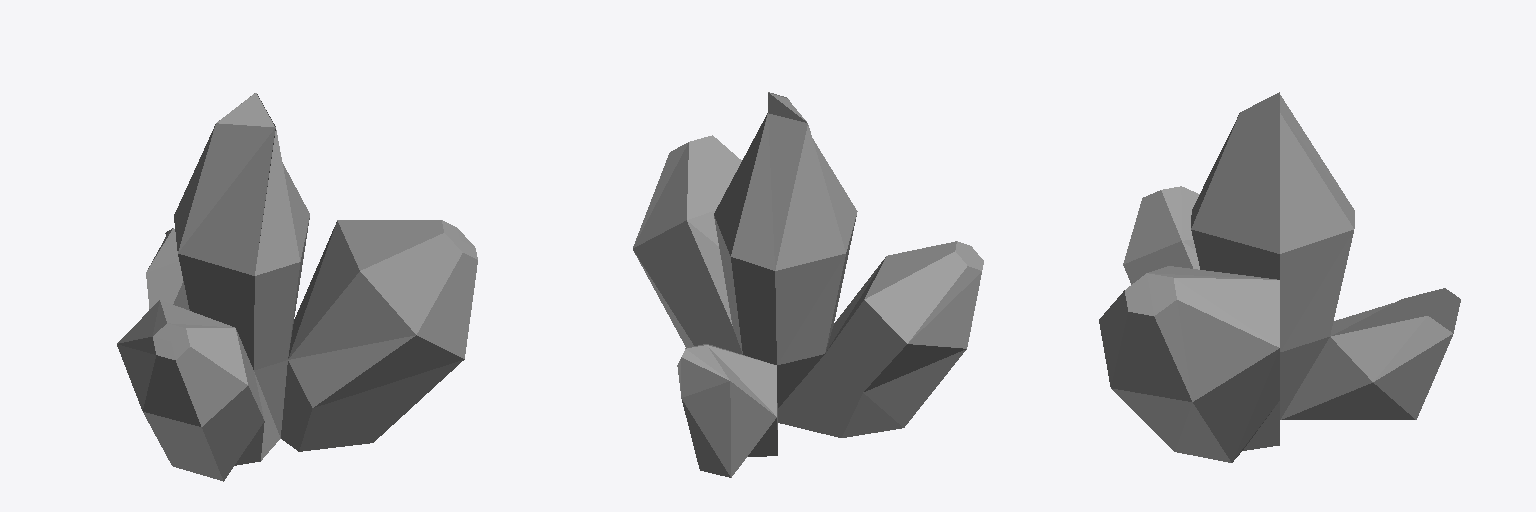
File: crystal.obj
The picture shows the model from 3 angles: view 1: azimuth 30°, elevation 25°; view 2: azimuth 150°, elevation 25°; view 3: azimuth 270°, elevation 25°; orthographic projection.
Parts seen in each view (by area): view 1: Cube1_Cube1_auv; view 2: Cube1_Cube1_auv; view 3: Cube1_Cube1_auv.
Part boxes in pixels (x1,y1,x2,y2): Cube1_Cube1_auv: (117, 93, 477, 481); Cube1_Cube1_auv: (633, 92, 983, 477); Cube1_Cube1_auv: (1099, 92, 1460, 462).
Bounding box in the file's own units: 1 × 1 × 1.